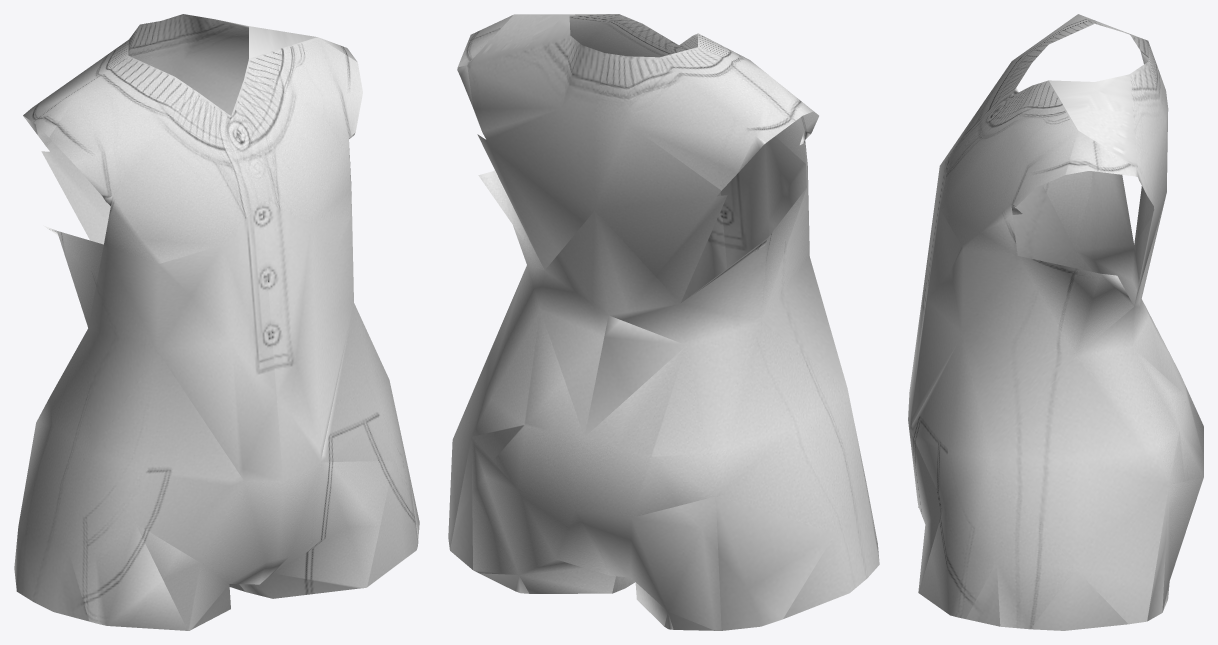
File: BabyRomper.glb
3 renders of one model, left to right at view 1: azimuth 30°, elevation 25°; view 2: azimuth 150°, elevation 25°; view 3: azimuth 270°, elevation 25°, orthographic. The views are drawn at different scales.
Visible parts, largest first — view 1: BabyRomper; view 2: BabyRomper; view 3: BabyRomper.
Part boxes in pixels (x1=…): BabyRomper: x1=14, y1=14, x2=419, y2=630; BabyRomper: x1=448, y1=14, x2=879, y2=630; BabyRomper: x1=908, y1=14, x2=1203, y2=630.
Size of the model in its own units: 6.58 by 8.84 by 4.56.
1 material, 1 textured.
